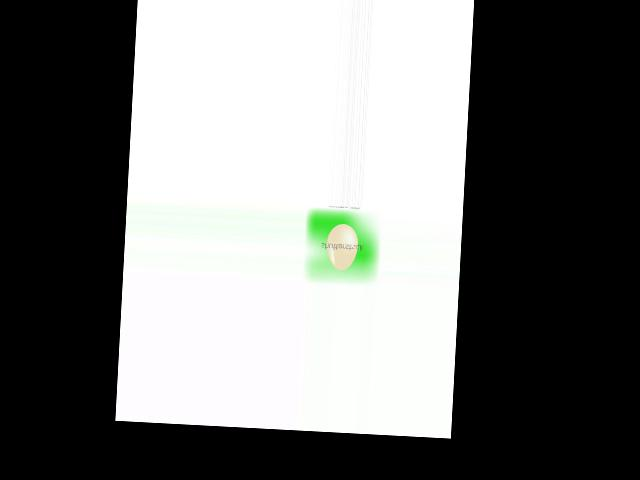egg: (326, 223, 359, 271)
